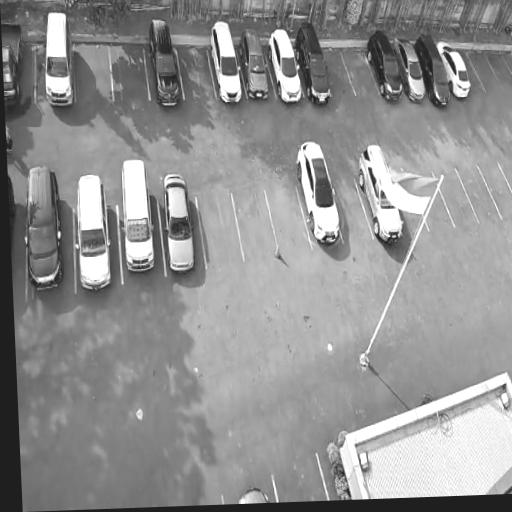Car: (348, 138, 409, 250), (291, 137, 347, 252), (20, 161, 67, 293), (73, 165, 115, 296), (118, 152, 160, 276), (157, 167, 200, 282), (144, 13, 185, 121), (39, 4, 78, 112), (291, 18, 336, 111), (204, 17, 247, 109), (412, 29, 457, 112), (362, 24, 407, 104), (234, 25, 274, 105), (264, 25, 305, 100), (391, 36, 431, 103), (435, 37, 475, 102), (1, 11, 24, 102), (237, 483, 270, 504)
Space Available: (195, 193, 243, 270), (231, 188, 278, 261), (265, 183, 312, 251), (332, 177, 373, 249), (432, 165, 478, 227), (271, 453, 329, 502), (456, 166, 501, 225), (109, 41, 150, 101), (75, 40, 114, 101), (176, 40, 216, 99), (478, 162, 512, 220), (321, 45, 356, 101), (340, 46, 379, 96), (466, 50, 503, 90), (455, 48, 484, 92), (485, 51, 512, 84), (499, 161, 512, 191)
